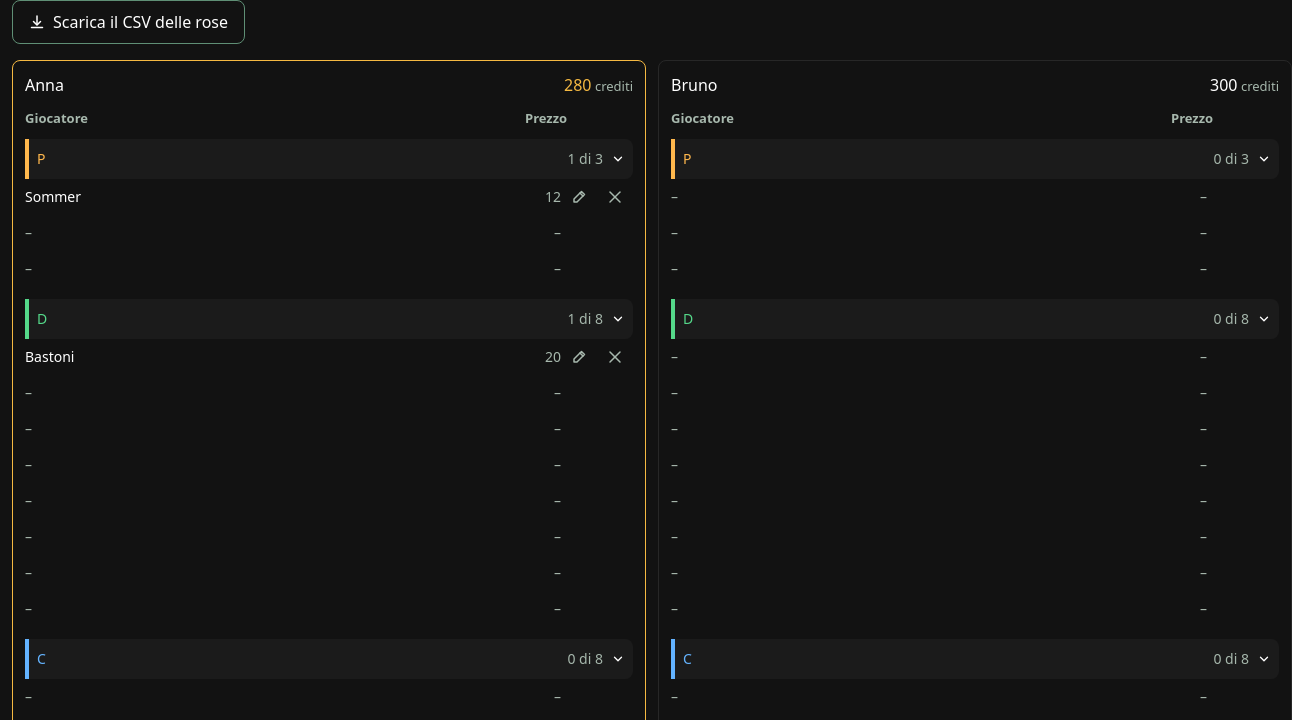
Test case: RosterGrid › una sola frase di errore alla volta
Step 1. Click the button named "annulla l'acquisto di bastoni" → click(615, 357), box [597,339,633,375]
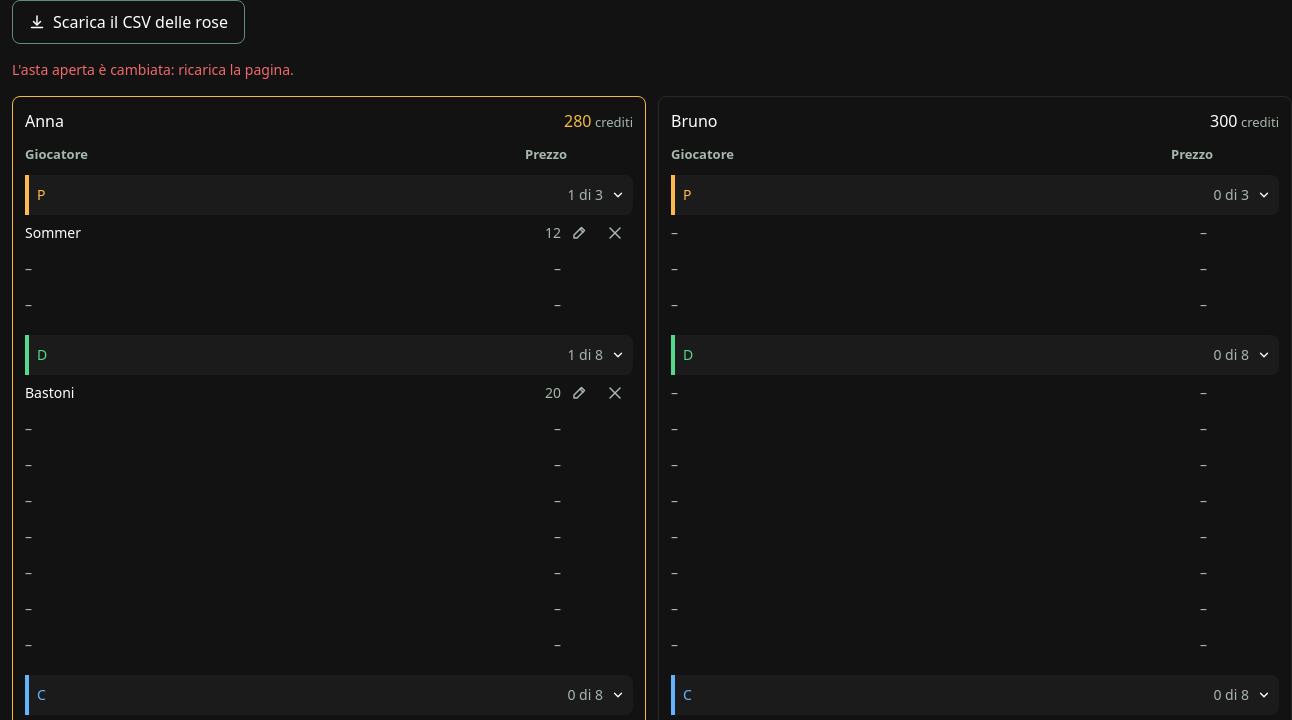
Result: the number of messages is 1 at [12,60,294,79]
Result: the message shows "cambiata" at [12,60,294,79]
Result: the message shows "ricarica" at [12,60,294,79]
